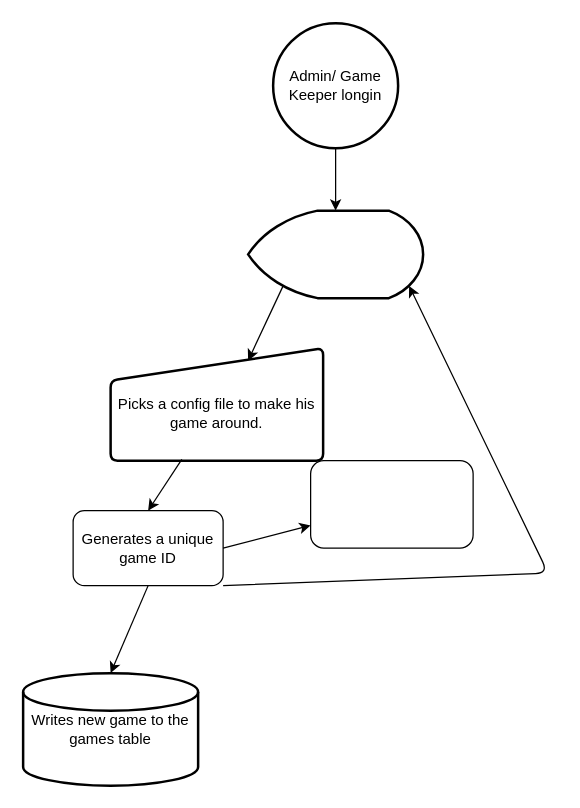
Image size: 580x808. Some labels were removed from this diagram. Each missing label, with the centre of its shape:
"GameKeeper page" goes at point (335, 254).
"Staff memeber gives game ID to all students so they can register there teams" goes at point (391, 503).
